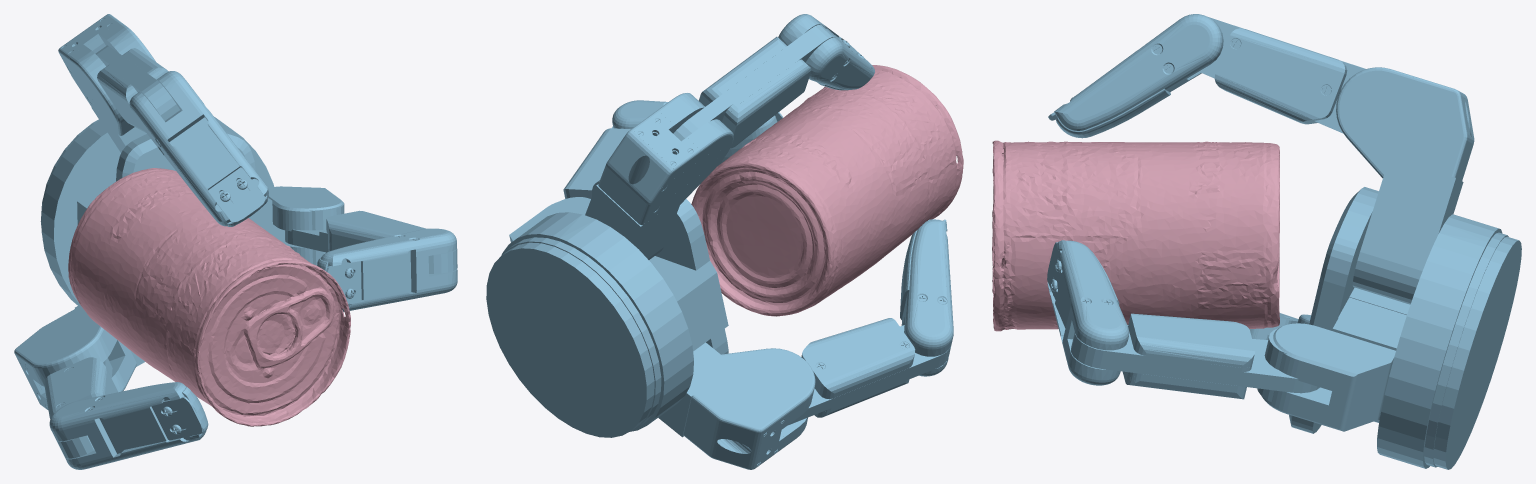
3 views of the same model, side by side, from view 1: azimuth 30°, elevation 25°; view 2: azimuth 150°, elevation 25°; view 3: azimuth 270°, elevation 25° (orthographic). The views are drawn at different scales.
Parts seen in each view (by area): view 1: world; view 2: world; view 3: world.
Part boxes in pixels (x1,y1,x2,y2): world: [14, 14, 457, 469]; world: [486, 14, 963, 469]; world: [992, 14, 1521, 469].
Size of the model in its own units: 0.1632 by 0.1627 by 0.1873.
